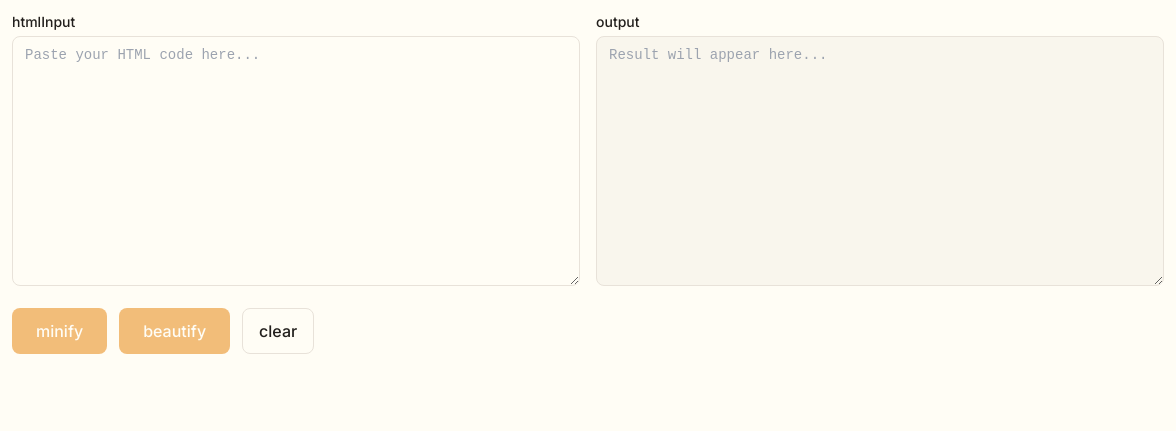
Test: HtmlMinifier › clears input, output, and stats when Clear is clicked
In the text box named "HTML input": (296, 161) x1=12 y1=36 x2=580 y2=286, type "<div>test</div>"
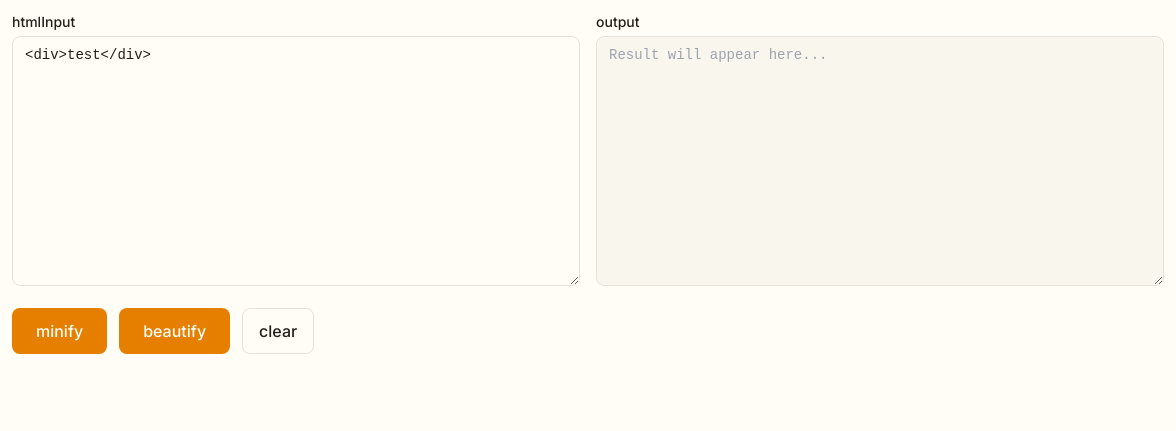
Click the button "minify": click(60, 331) x1=12 y1=308 x2=107 y2=354
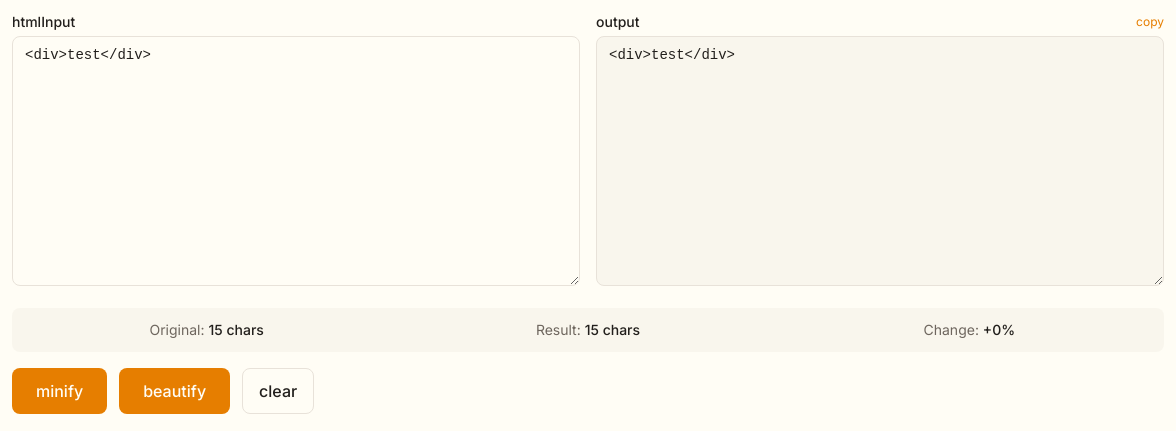
Check: the text "Original:" is shown, box x1=150 y1=321 x2=208 y2=338
Click the button "clear": click(278, 391) x1=242 y1=368 x2=314 y2=414
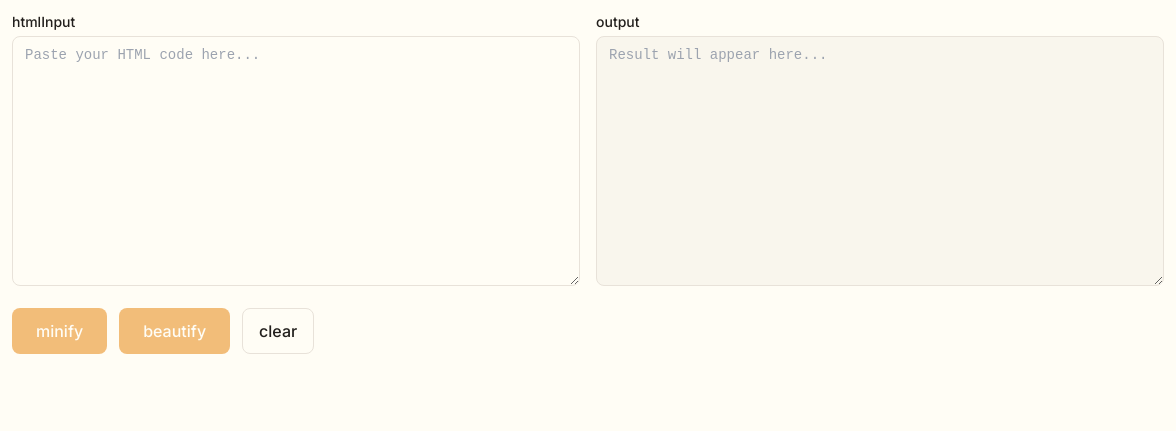
Check: the text box named "HTML input" is empty, box x1=12 y1=36 x2=580 y2=286
Check: the text box named "HTML output" is empty, box x1=596 y1=36 x2=1164 y2=286
Check: the text "Original:" is gone
